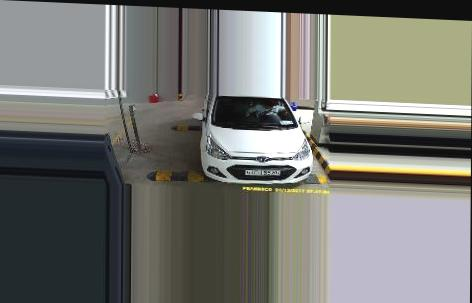License_Plate: (244, 165, 281, 179)
